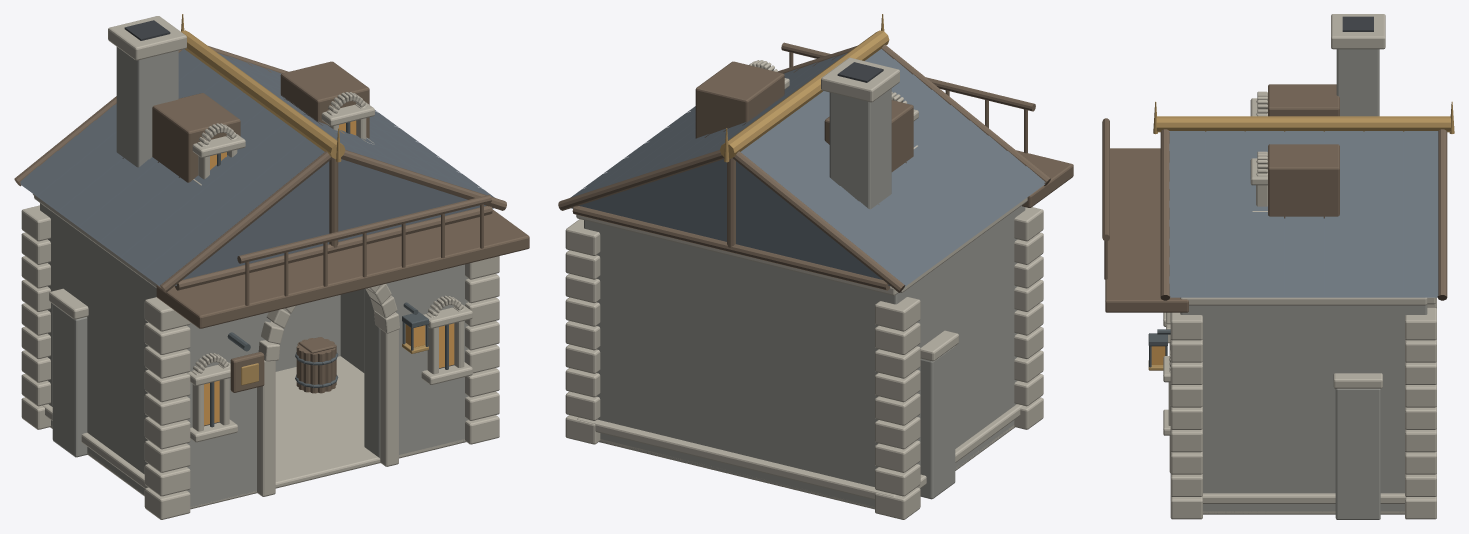
The model's file is service_5.glb.
3 views of the same model, side by side, from view 1: azimuth 30°, elevation 25°; view 2: azimuth 150°, elevation 25°; view 3: azimuth 270°, elevation 25° (orthographic). The views are drawn at different scales.
Parts seen in each view (by area): view 1: Roof.005, Front.005, Body.005, Side.005; view 2: Body.005, Roof.005, Front.005, Side.005; view 3: Roof.005, Side.005, Front.005, Body.005.
Boxes of the visible parts, x1,y1,x2,y2 form: Roof.005: (14,14,506,292); Front.005: (144,195,529,519); Body.005: (21,194,465,509); Side.005: (340,264,468,443); Body.005: (576,197,1027,519); Roof.005: (558,14,1050,292); Front.005: (781,42,1073,429); Side.005: (565,219,608,444); Roof.005: (1153,14,1454,300); Side.005: (1180,297,1436,519); Front.005: (1102,118,1208,519); Body.005: (1203,297,1436,514).
Bounding box in the file's own units: 3.52 × 3.9 × 3.28.
